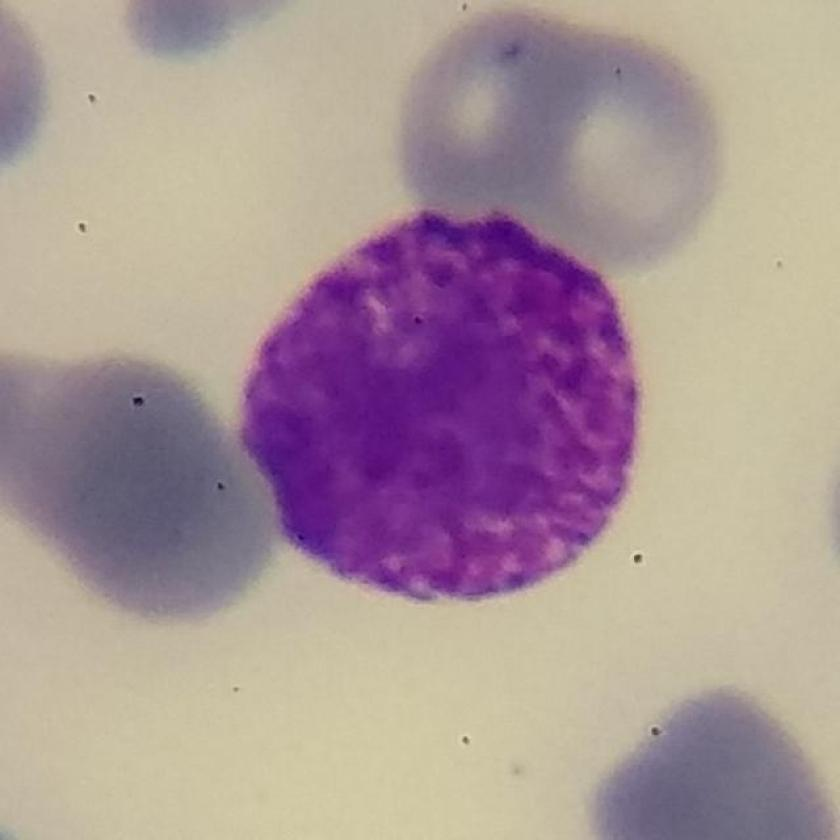basophil: (236, 199, 660, 611)
